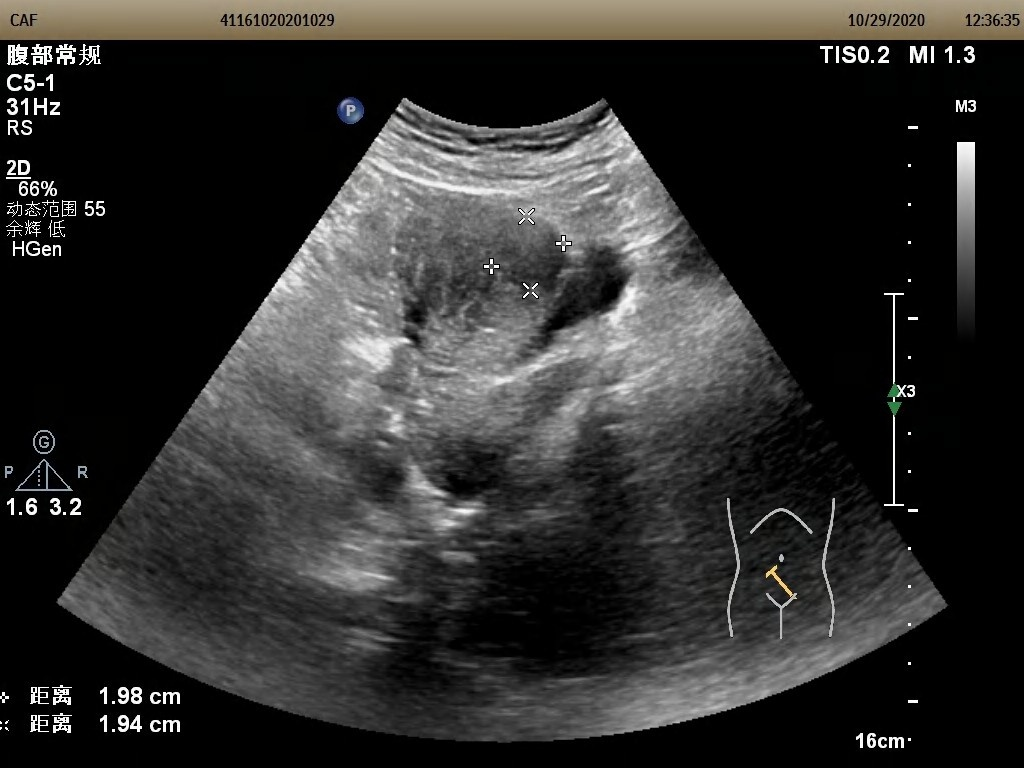肌瘤: (491, 218, 564, 293)
